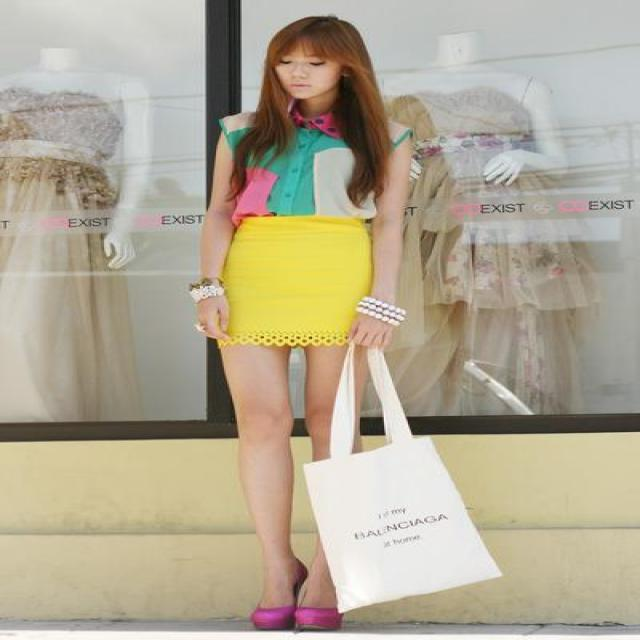bag: (304, 349, 499, 612)
shirt: (206, 99, 364, 242)
shoe: (250, 594, 342, 633)
skirt: (218, 214, 402, 344)
